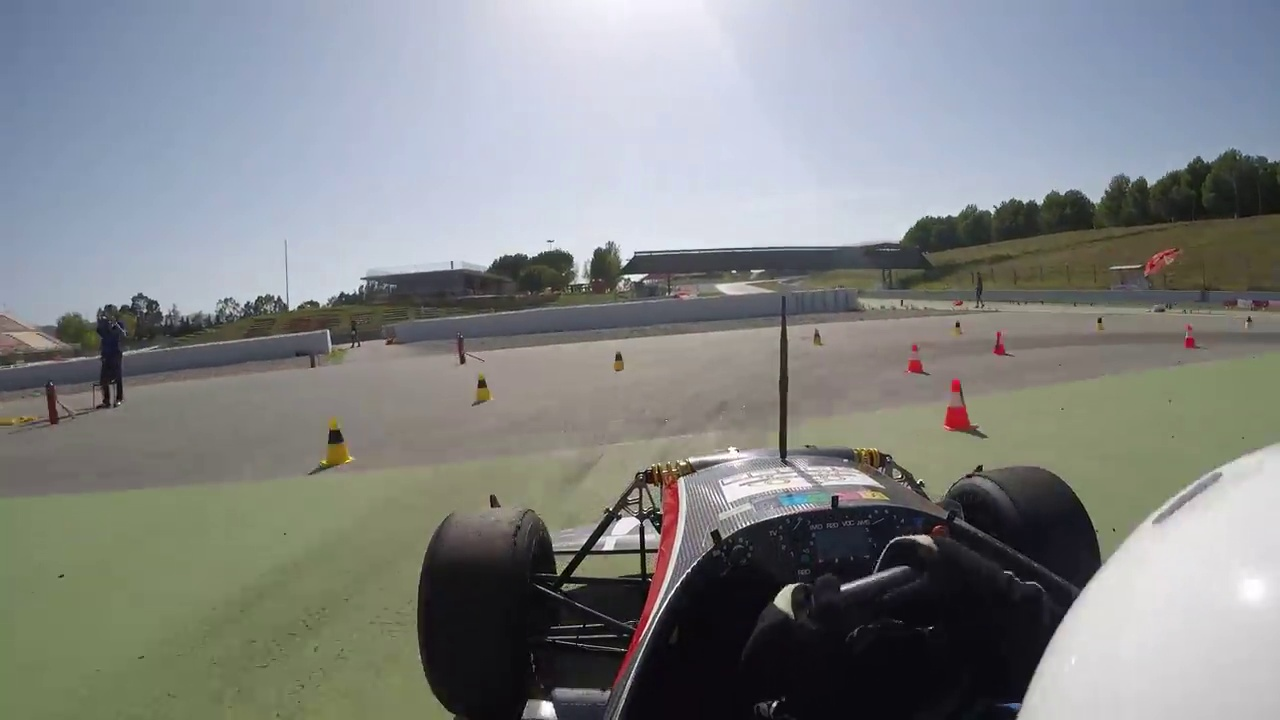Cone: (941, 375, 980, 434), (322, 411, 353, 468)
